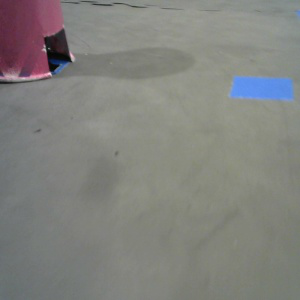middle: (1, 1, 75, 82)
